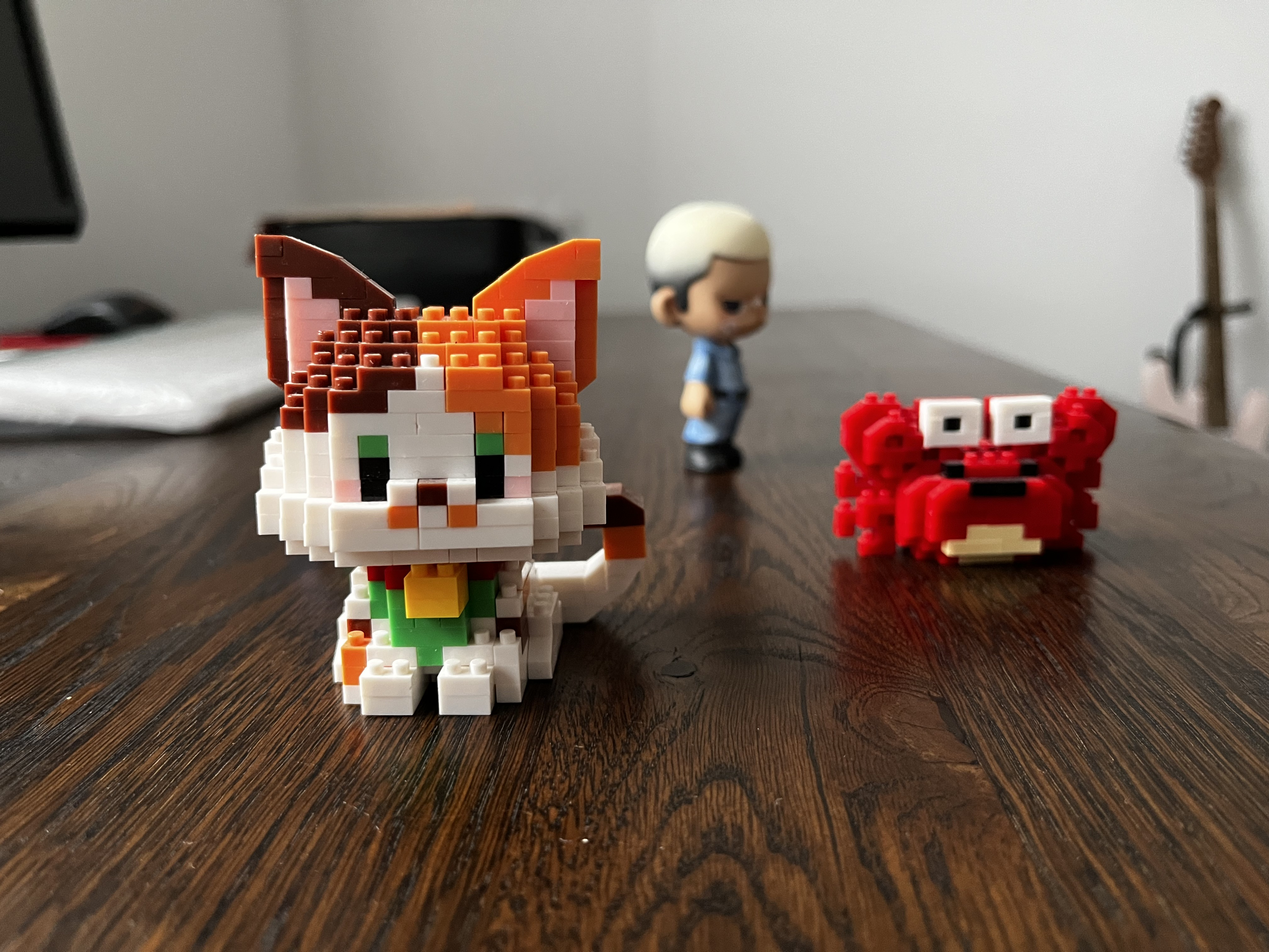cat: (238, 226, 663, 725)
crab: (829, 382, 1122, 576)
worker: (638, 182, 779, 485)
